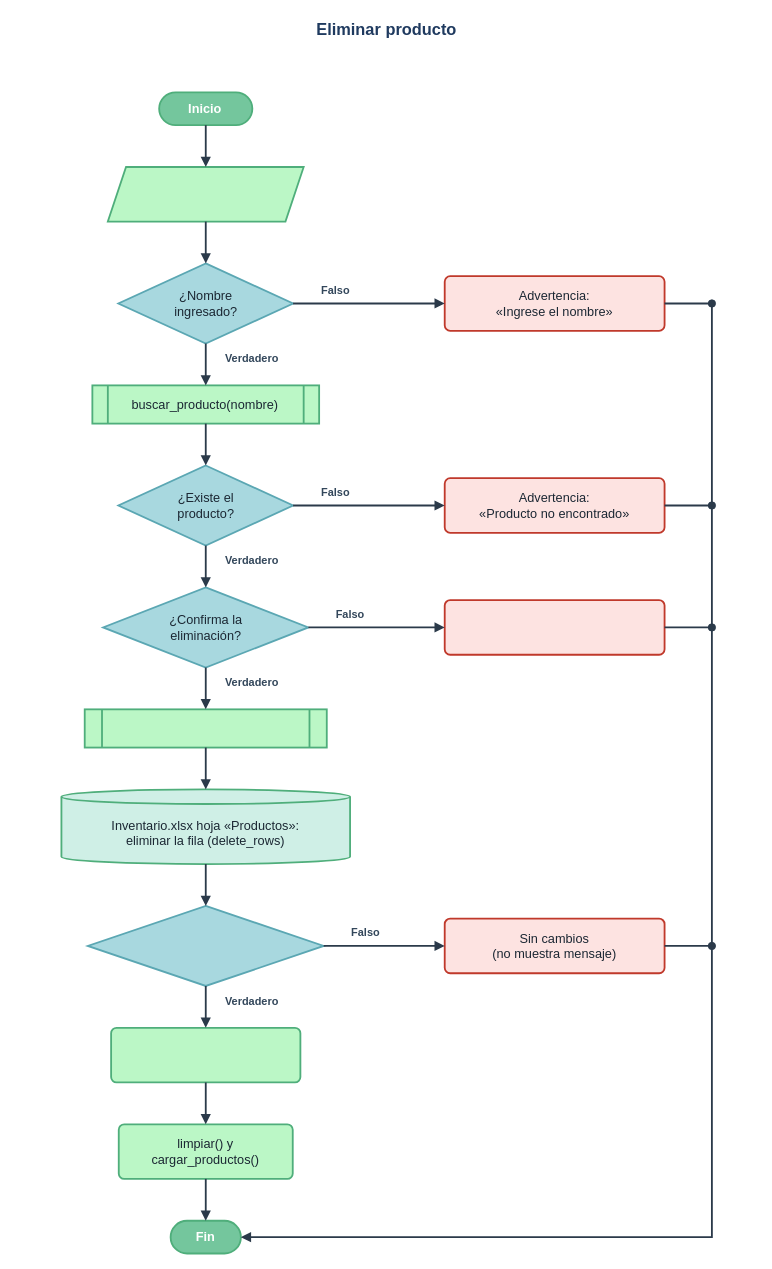
Image size: 772x1269. Some labels were removed from this diagram. Each missing label, with the centre of its shape:
Cancelar: no se elimina nada: point (554, 627)
eliminar_producto(nombre): point (205, 728)
Ingresar el nombre del producto: point (205, 194)
Mostrar mensaje «Producto eliminado»: point (205, 1054)
¿Se eliminó correctamente?: point (205, 945)
